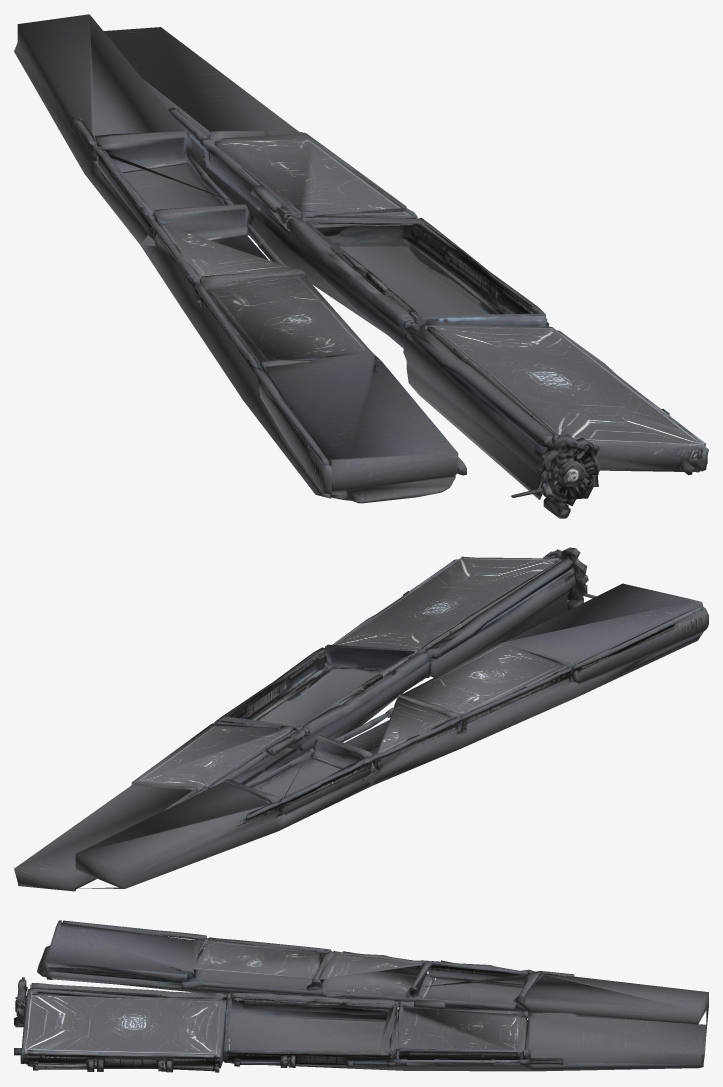
Rendered from 019e2f57-d6c1-766a-b9c7-bac79f484d76.glb.
3 views of the same model, one above another, from view 1: azimuth 30°, elevation 25°; view 2: azimuth 150°, elevation 25°; view 3: azimuth 270°, elevation 25° (orthographic). The views are drawn at different scales.
Visible parts, largest first — view 1: tripo_node_91329e53-bc1b-4d1a-b346-0f93bbeea4e8; view 2: tripo_node_91329e53-bc1b-4d1a-b346-0f93bbeea4e8; view 3: tripo_node_91329e53-bc1b-4d1a-b346-0f93bbeea4e8.
Part boxes in pixels (x1=…): tripo_node_91329e53-bc1b-4d1a-b346-0f93bbeea4e8: x1=14, y1=14, x2=708, y2=518; tripo_node_91329e53-bc1b-4d1a-b346-0f93bbeea4e8: x1=14, y1=547, x2=708, y2=891; tripo_node_91329e53-bc1b-4d1a-b346-0f93bbeea4e8: x1=14, y1=920, x2=708, y2=1072.
Size of the model in its own units: 0.373 by 0.0801 by 0.998.
Materials: 1 (1 with a texture image).
